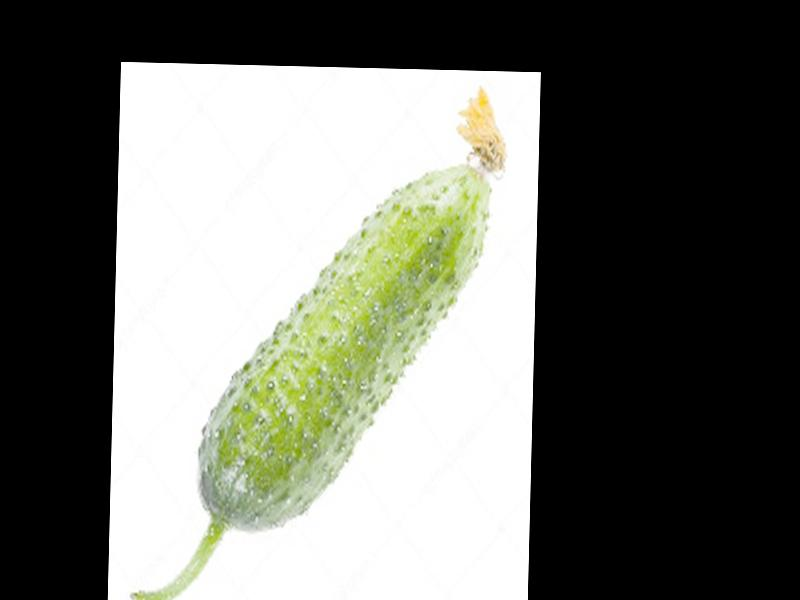Cucumber: (133, 76, 508, 600)
